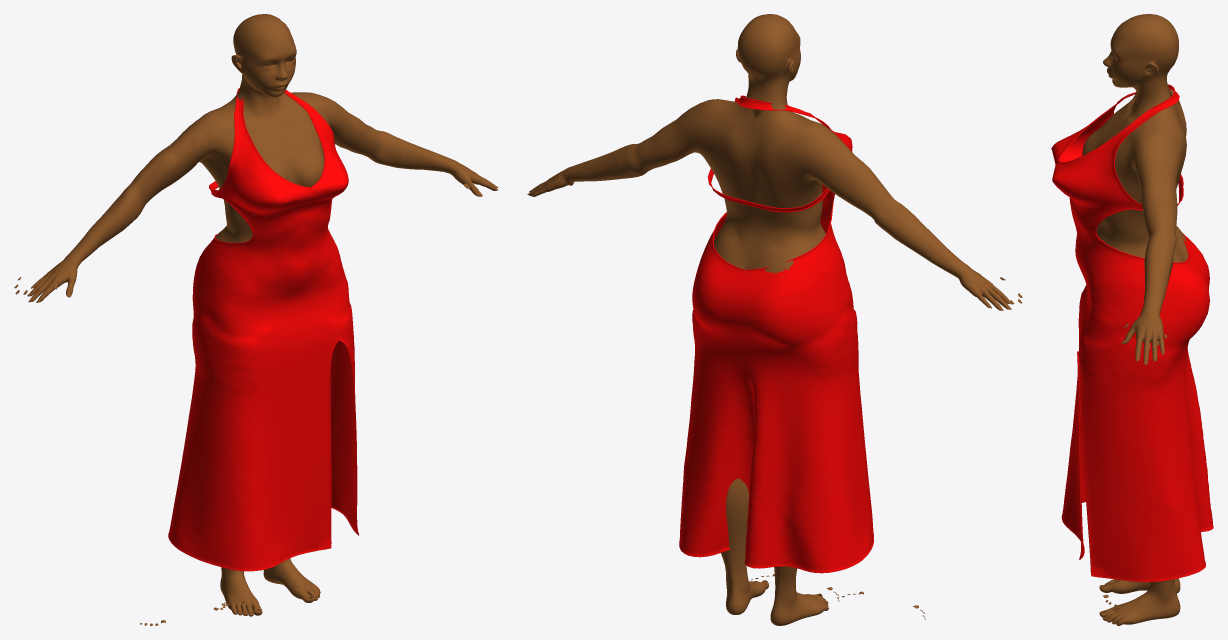
The model's file is dress3.glb.
The picture shows the model from 3 angles, left to right: view 1: azimuth 30°, elevation 25°; view 2: azimuth 150°, elevation 25°; view 3: azimuth 270°, elevation 25°; orthographic projection. The views are drawn at different scales.
Visible parts, largest first — view 1: EveningDress, Body.003; view 2: EveningDress, Body.003; view 3: EveningDress, Body.003.
Part boxes in pixels (<box>): EveningDress: <box>168,88,358,571</box>; Body.003: <box>29,14,497,616</box>; EveningDress: <box>679,95,873,573</box>; Body.003: <box>529,14,1009,625</box>; EveningDress: <box>1051,84,1213,582</box>; Body.003: <box>1082,14,1188,625</box>.
Size of the model in its own units: 1.62 by 1.85 by 0.462.
